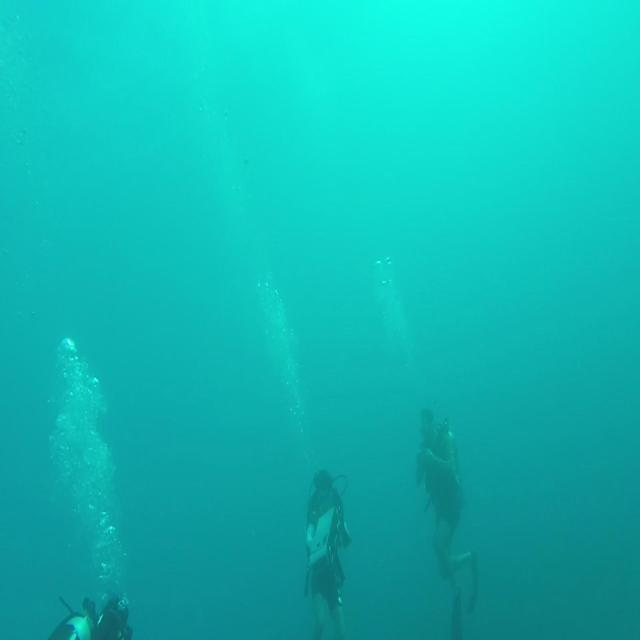human: (414, 405, 479, 638), (303, 468, 351, 638), (48, 592, 132, 639)
